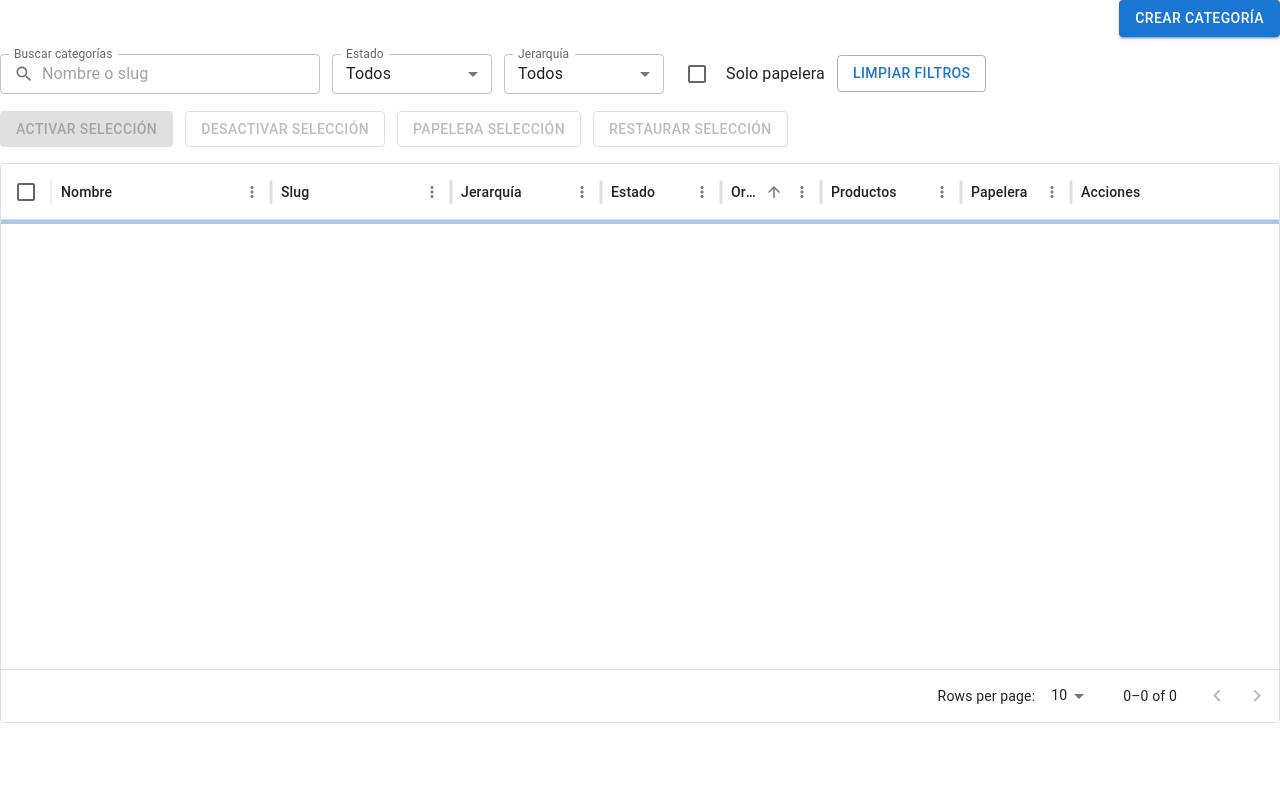
Test case: admin_categories_page › loads parent options independently from visible rows
Click the button "Crear categoría".
click(1200, 18)  # box x1=1119 y1=0 x2=1279 y2=36
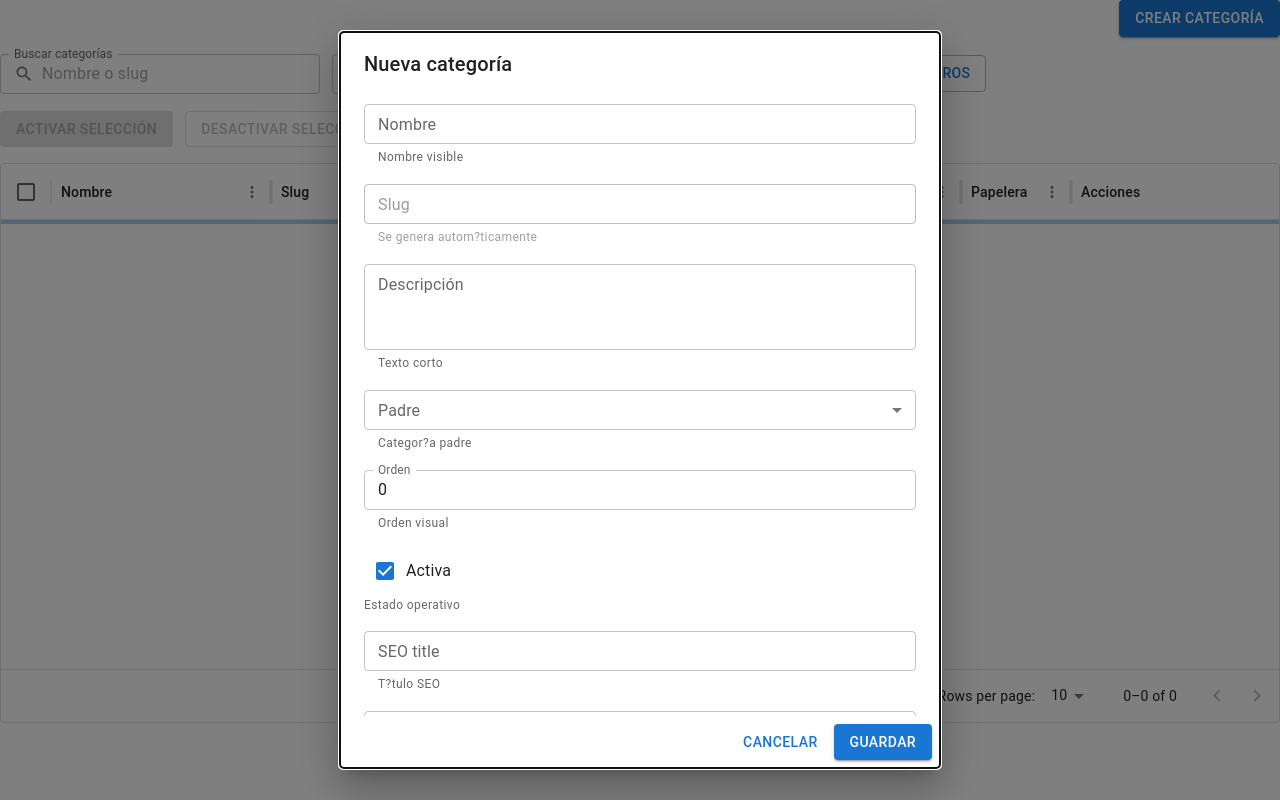
Press the mouse on the dropdown named "Padre" at coordinates (640, 410), box x1=364 y1=390 x2=916 y2=430
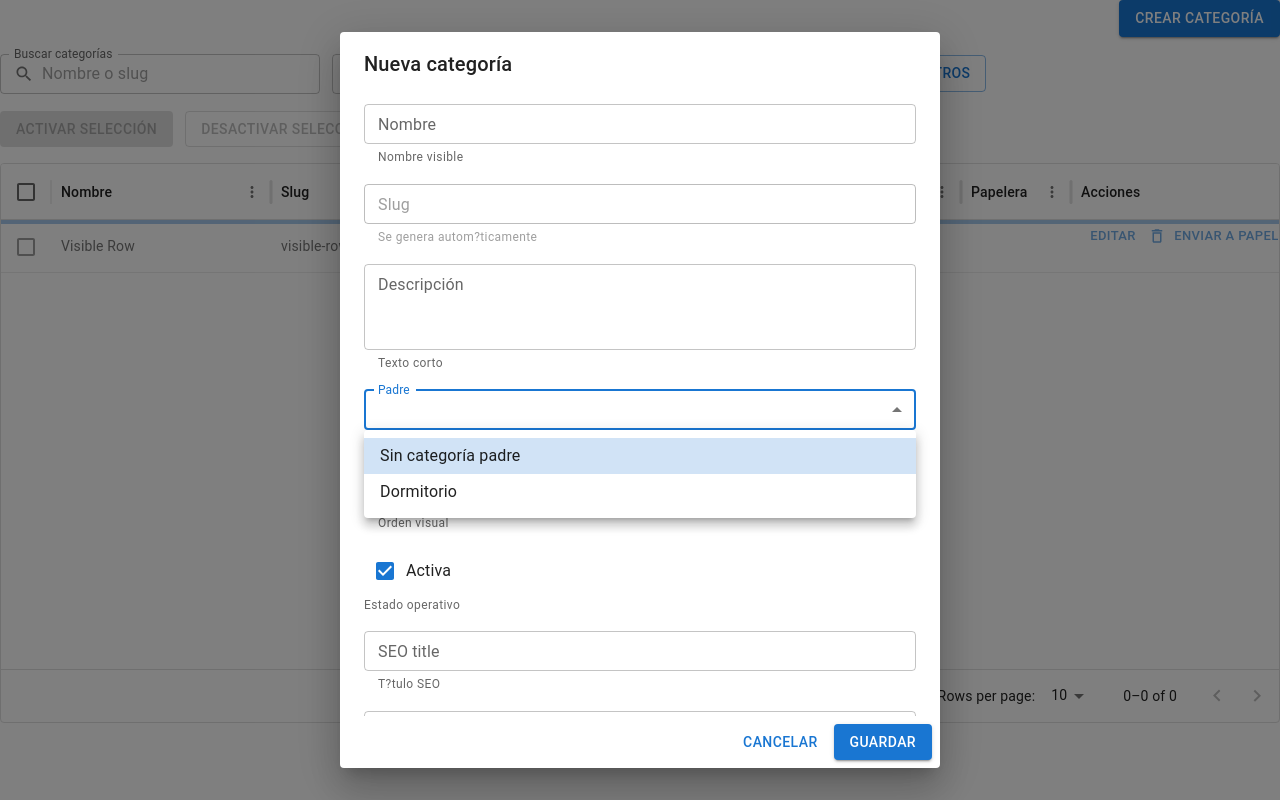
Check: the option "Dormitorio" is shown, box x1=380 y1=482 x2=457 y2=501
